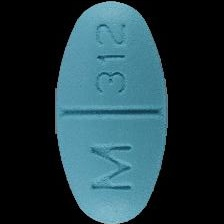66267-211: (0, 0, 224, 224)
